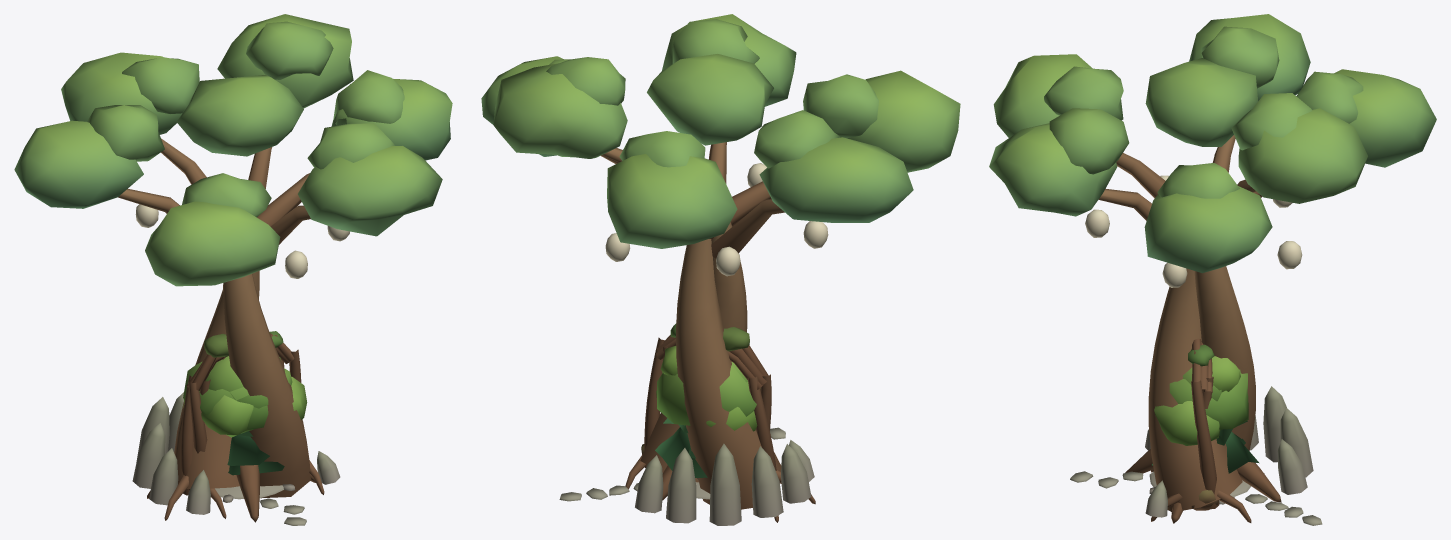
File: tomori-world-kit.glb
3 views of the same model, side by side, from view 1: azimuth 30°, elevation 25°; view 2: azimuth 150°, elevation 25°; view 3: azimuth 270°, elevation 25° (orthographic). The views are drawn at different scales.
Parts seen in each view (by area): view 1: WordTree, Shrine, Tree_Round_B, RootGate_Left, Tree_Round_A, RootGate_Top, Tree_Tall_B, WordTree_Fruit_02, RootGate_Right; view 2: WordTree, Shrine, Tree_Round_A, RootGate_Top, RootGate_Left, RootGate_Right, Tree_Tall_A, WordTree_Fruit_04, WordTree_Fruit_03; view 3: WordTree, Shrine, Tree_Round_A, RootGate_Right, Tree_Round_B, RootGate_Top, Tree_Tall_A, WordTree_Fruit_02, WordTree_Fruit_05.
Boxes of the visible parts, bbox=[...] form: WordTree: bbox=[14, 14, 452, 522]; Shrine: bbox=[132, 392, 340, 525]; Tree_Round_B: bbox=[201, 356, 280, 437]; RootGate_Left: bbox=[147, 375, 226, 520]; Tree_Round_A: bbox=[183, 361, 307, 430]; RootGate_Top: bbox=[186, 331, 294, 390]; Tree_Tall_B: bbox=[227, 435, 269, 465]; WordTree_Fruit_02: bbox=[285, 250, 307, 278]; RootGate_Right: bbox=[281, 349, 324, 494]; WordTree: bbox=[481, 14, 960, 509]; Shrine: bbox=[559, 427, 814, 525]; Tree_Round_A: bbox=[656, 365, 760, 431]; RootGate_Top: bbox=[656, 323, 768, 389]; RootGate_Left: bbox=[747, 374, 815, 522]; RootGate_Right: bbox=[625, 337, 667, 489]; Tree_Tall_A: bbox=[655, 418, 707, 477]; WordTree_Fruit_04: bbox=[716, 246, 740, 276]; WordTree_Fruit_03: bbox=[803, 221, 828, 248]; WordTree: bbox=[989, 14, 1436, 523]; Shrine: bbox=[1070, 386, 1322, 525]; Tree_Round_A: bbox=[1154, 373, 1248, 445]; RootGate_Right: bbox=[1151, 377, 1251, 522]; Tree_Round_B: bbox=[1182, 356, 1240, 401]; RootGate_Top: bbox=[1188, 338, 1214, 392]; Tree_Tall_A: bbox=[1152, 421, 1259, 473]; WordTree_Fruit_02: bbox=[1085, 209, 1109, 237]; WordTree_Fruit_05: bbox=[1277, 241, 1302, 269].
Bounding box in the file's own units: 11.88 × 11.46 × 10.7.
